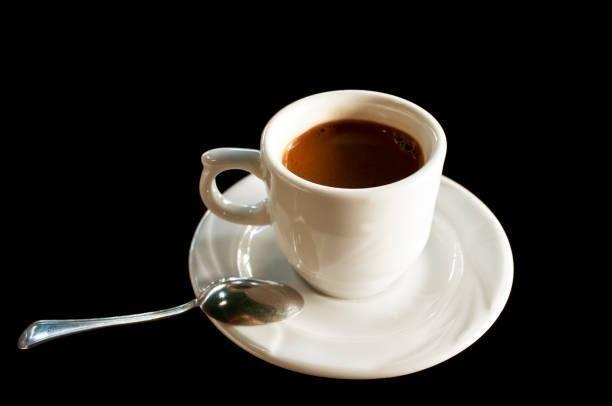cup-handle: (199, 87, 448, 301)
